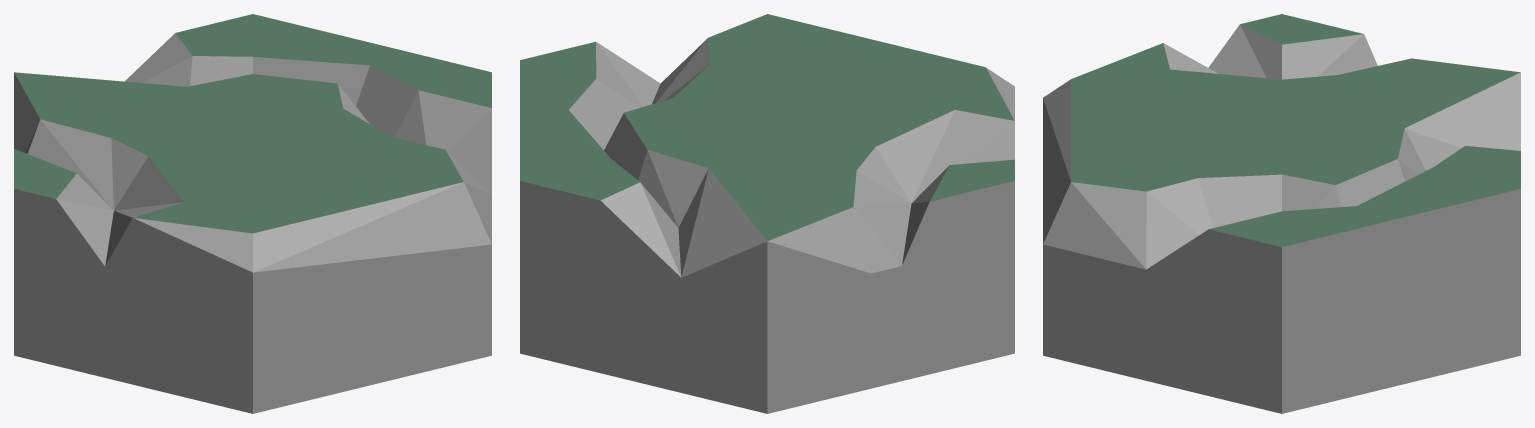
Rendered from Hex06.fbx.
3 views of the same model, side by side, from view 1: azimuth 30°, elevation 25°; view 2: azimuth 150°, elevation 25°; view 3: azimuth 270°, elevation 25° (orthographic). The views are drawn at different scales.
Parts seen in each view (by area): view 1: Hex06; view 2: Hex06; view 3: Hex06.
Part boxes in pixels (box(x1,y1,x2,y2)): Hex06: box(14, 14, 491, 413); Hex06: box(520, 14, 1014, 413); Hex06: box(1043, 14, 1520, 413).
Bounding box in the file's own units: 1.67 × 0.5565 × 1.44.
